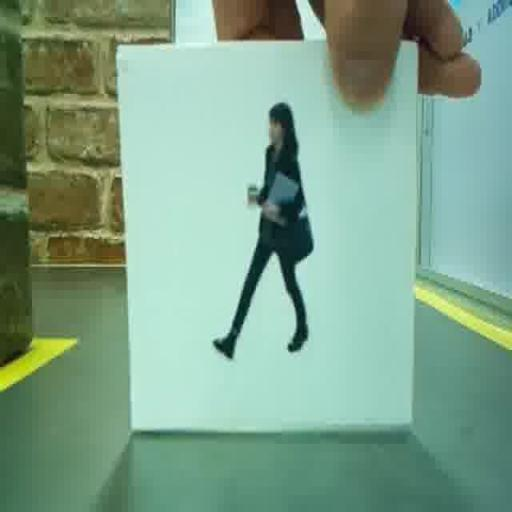human: (212, 102, 313, 357)
